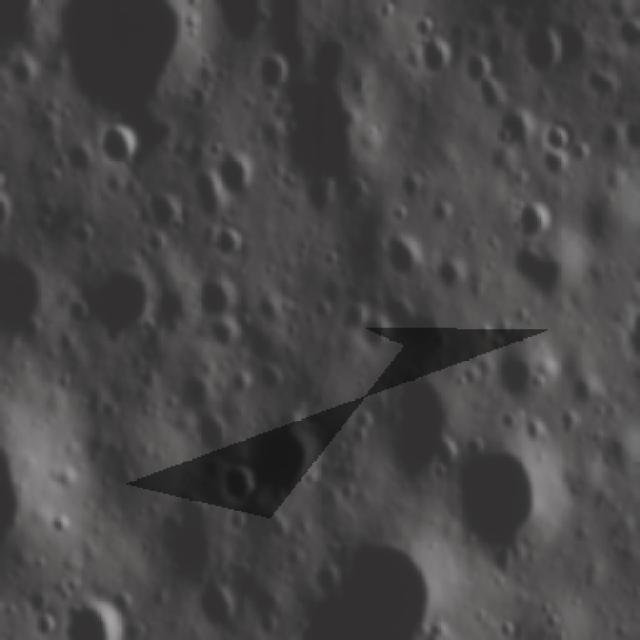crater: (288, 532, 448, 640), (448, 445, 572, 550), (242, 410, 324, 498), (506, 242, 589, 307), (91, 262, 158, 336), (46, 586, 128, 640), (496, 338, 550, 408), (190, 272, 242, 325), (208, 147, 260, 199), (213, 459, 264, 512), (523, 26, 571, 76), (96, 121, 142, 168), (255, 51, 297, 98), (194, 580, 234, 628), (149, 187, 189, 231), (378, 238, 419, 279), (212, 215, 246, 263), (515, 200, 559, 234), (422, 36, 455, 81), (305, 559, 341, 595), (476, 76, 510, 113), (438, 258, 467, 288), (544, 124, 570, 156), (251, 609, 278, 637), (466, 54, 492, 83), (544, 147, 567, 179), (33, 611, 56, 640), (570, 140, 593, 166), (422, 631, 448, 640)
